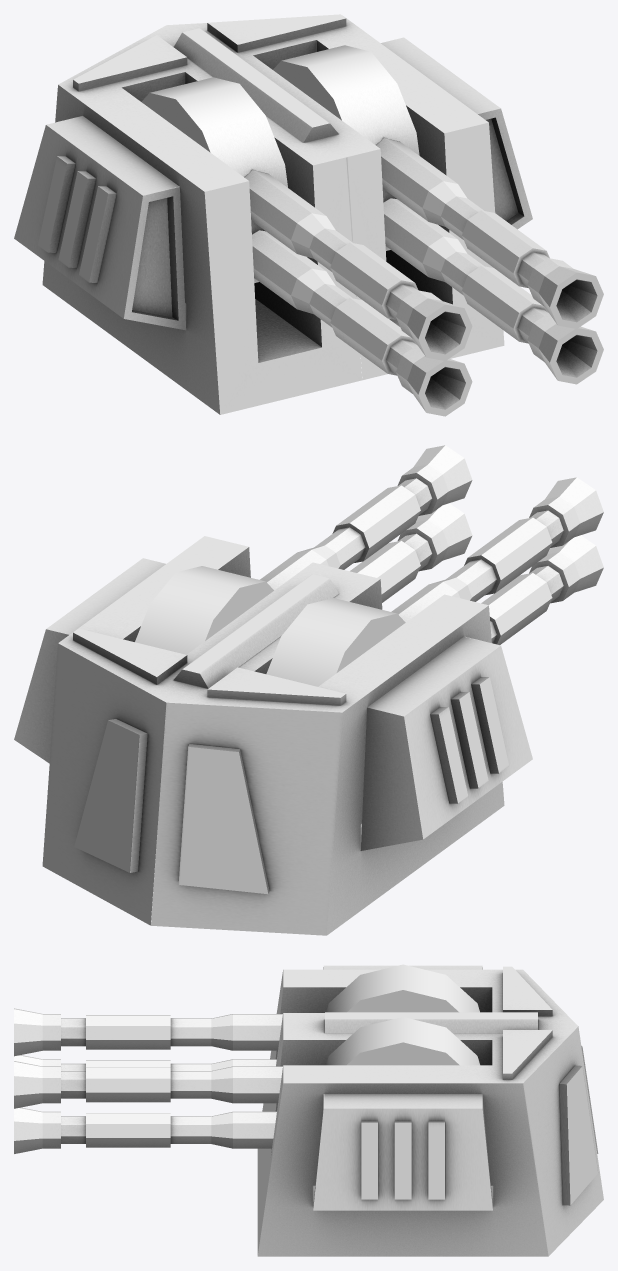
Rendered from HeavyQuadTurboLaserBattery.fbx.
3 renders of one model, top to bottom at view 1: azimuth 30°, elevation 25°; view 2: azimuth 150°, elevation 25°; view 3: azimuth 270°, elevation 25°, orthographic. The views are drawn at different scales.
Visible parts, largest first — view 1: Base, Wheel, CannonLeftTop, CannonRightTop, CannonRightBottom, CannonLeftBottom; view 2: Base, Wheel, CannonLeftTop, CannonRightTop, CannonRightBottom, CannonLeftBottom; view 3: Base, Wheel, CannonLeftTop, CannonRightTop, CannonLeftBottom, CannonRightBottom.
Part boxes in pixels (x1,y1,x2,y2): Base: (14, 14, 532, 414); Wheel: (141, 45, 419, 282); CannonLeftTop: (376, 137, 603, 328); CannonRightTop: (244, 169, 472, 360); CannonRightBottom: (252, 230, 472, 416); CannonLeftBottom: (383, 198, 603, 384); Base: (14, 536, 532, 935); Wheel: (135, 566, 405, 686); CannonLeftTop: (260, 445, 472, 590); CannonRightTop: (391, 477, 603, 622); CannonRightBottom: (481, 535, 603, 644); CannonLeftBottom: (350, 503, 472, 602); Base: (257, 965, 603, 1256); Wheel: (326, 964, 479, 1065); CannonLeftTop: (14, 1061, 282, 1108); CannonRightTop: (14, 1008, 282, 1056); CannonLeftBottom: (14, 1107, 276, 1153); CannonRightBottom: (14, 1055, 276, 1070).
Bounding box in the file's own units: 1776 × 969 × 2638.
